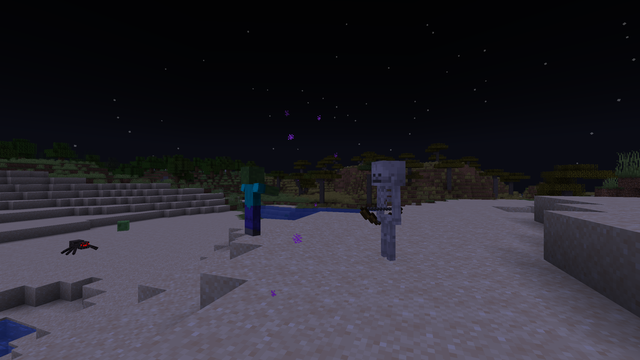araignees: (63, 237, 95, 254)
slimes: (115, 220, 131, 231)
squelettes: (371, 160, 403, 263)
zombies: (237, 168, 266, 237)
